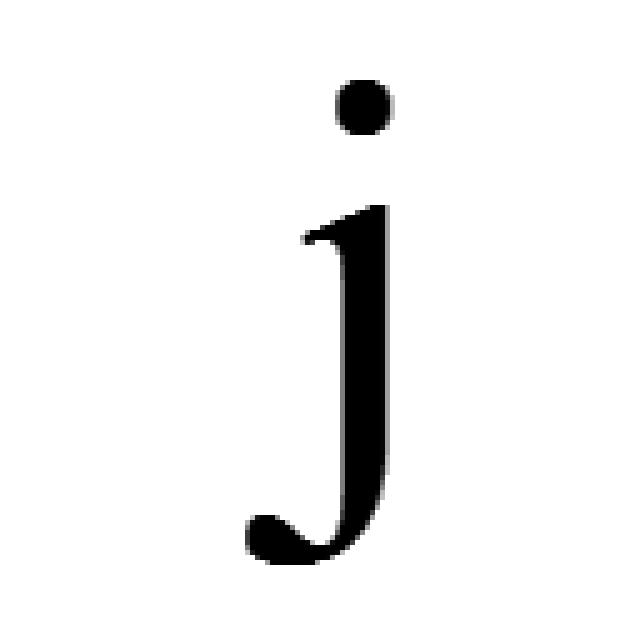J: (235, 69, 393, 570)
